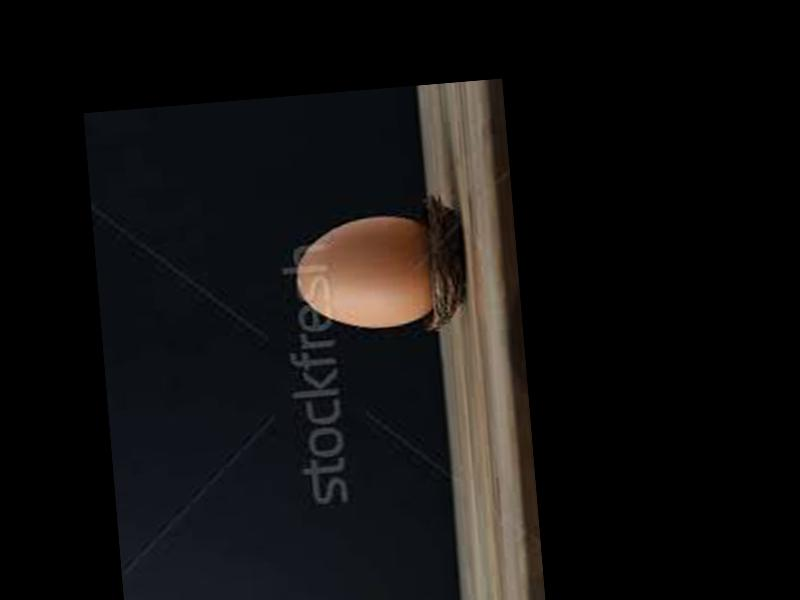Eggs: (293, 211, 437, 331)
